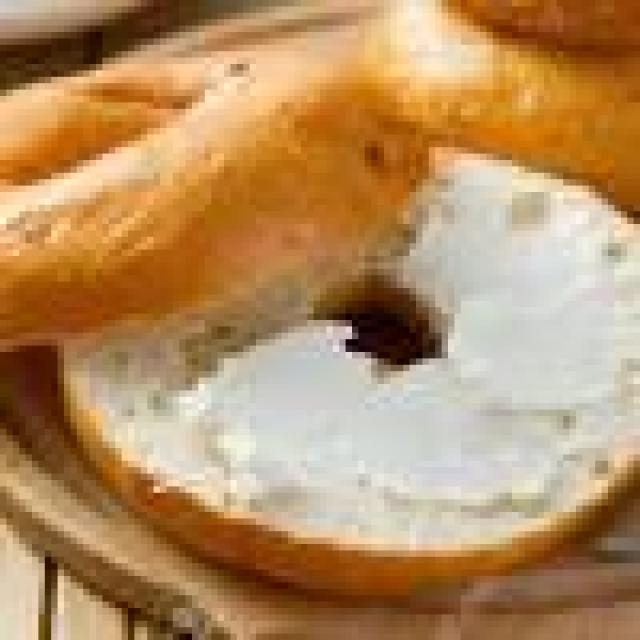Bagel: (0, 50, 425, 336)
